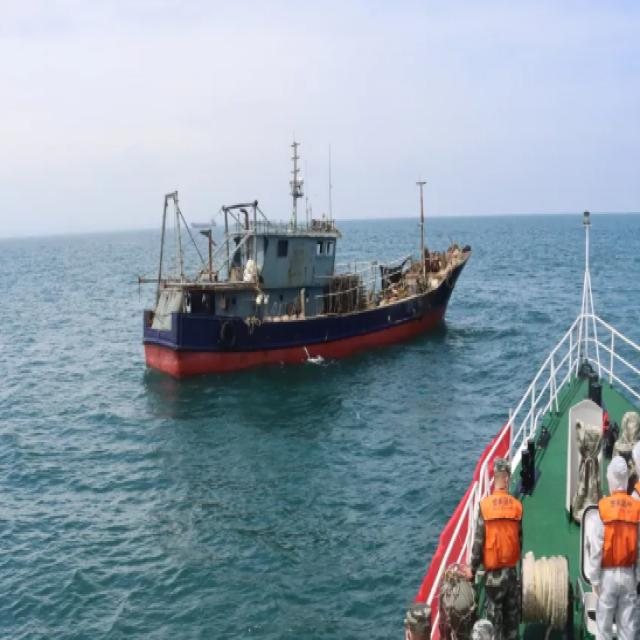fishing boat: (142, 123, 474, 382)
